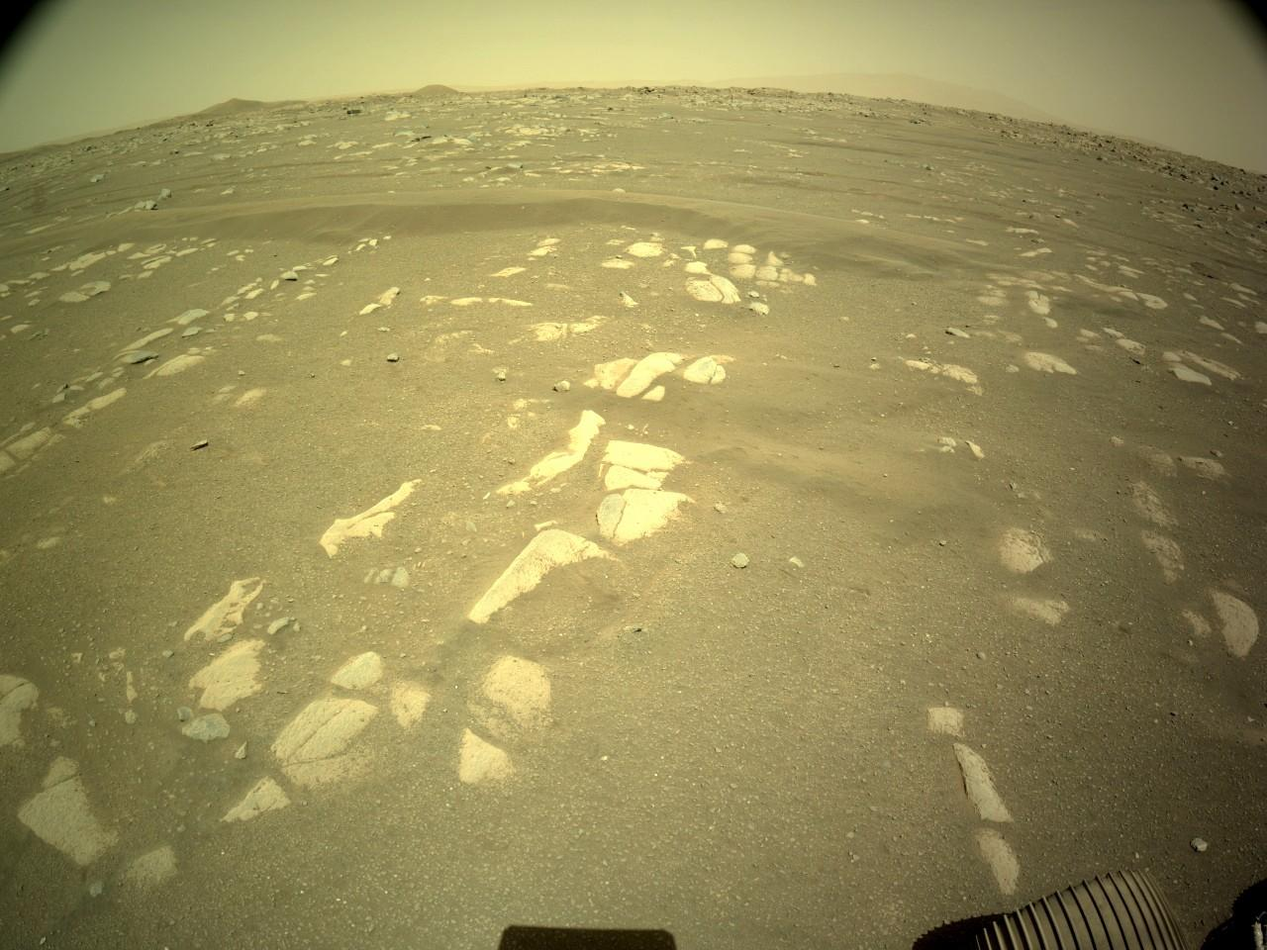bedrock: (1, 239, 817, 937), (872, 122, 1264, 820), (3, 85, 953, 232), (3, 254, 365, 500), (921, 700, 1182, 912), (185, 372, 274, 424), (1065, 118, 1160, 145), (1226, 891, 1260, 942), (969, 936, 1172, 942), (19, 942, 22, 944), (10, 256, 12, 257), (19, 946, 20, 947)
big_rock: (987, 115, 1063, 132), (1253, 175, 1266, 266)
sand: (13, 170, 989, 284), (1, 234, 9, 257)
soil: (21, 286, 1002, 949), (691, 112, 981, 207), (1087, 912, 1232, 941), (3, 488, 26, 662), (3, 813, 18, 945), (365, 258, 443, 271), (1261, 667, 1265, 889), (24, 929, 83, 941), (1249, 821, 1253, 894), (1176, 943, 1200, 949), (1262, 414, 1263, 523), (10, 939, 18, 941)
